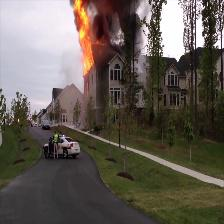fire: (70, 1, 107, 79)
